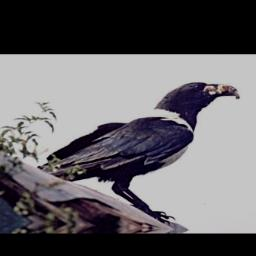Crow: (25, 73, 243, 227)
